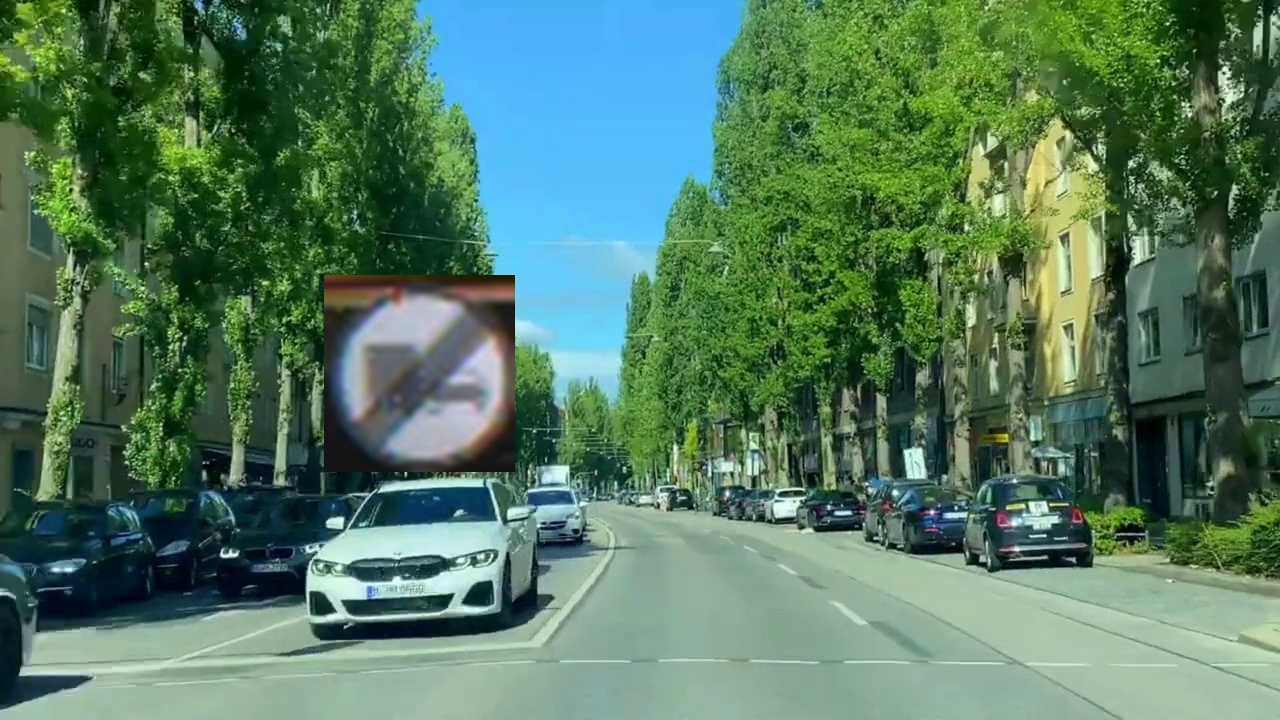End no pass >3.5t: (324, 275, 515, 472)
